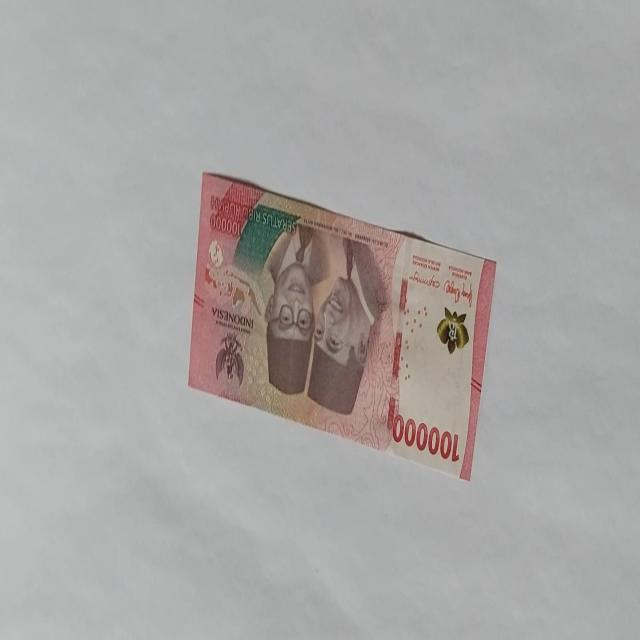seratus ribu rupiah: (187, 169, 497, 482)
